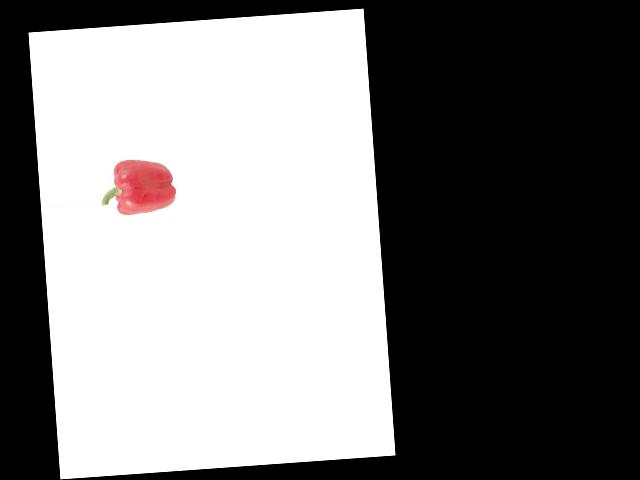bell_pepper: (98, 148, 178, 219)
